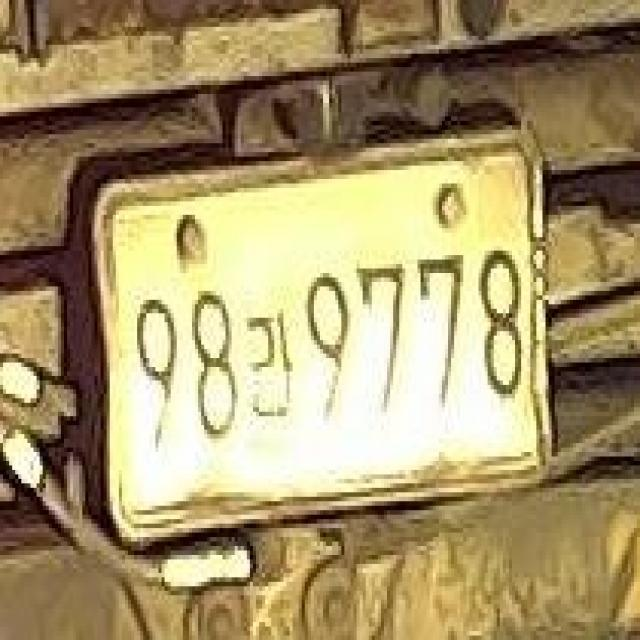7: (414, 252, 467, 414), (359, 256, 407, 416)
8: (186, 286, 244, 448), (476, 242, 530, 411)
9: (300, 266, 354, 429), (130, 297, 184, 452)
la: (248, 304, 298, 434)
license_plate: (95, 120, 553, 544)
